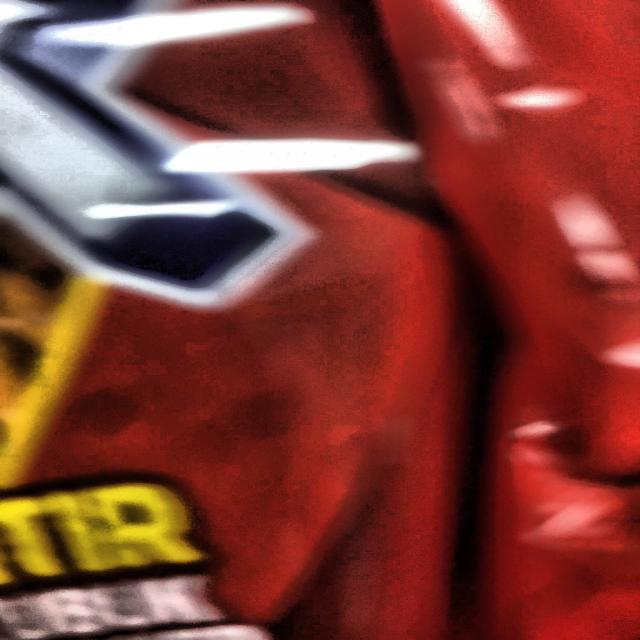Plastic: (0, 8, 430, 640)
